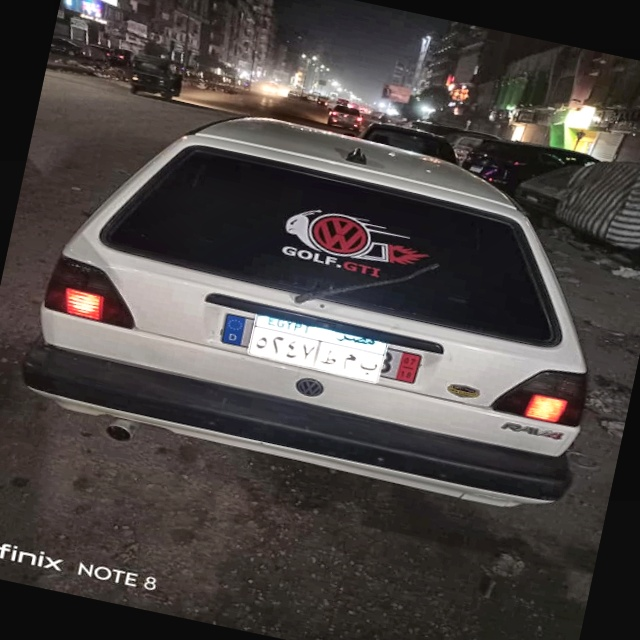License Plate: (245, 311, 389, 386)
